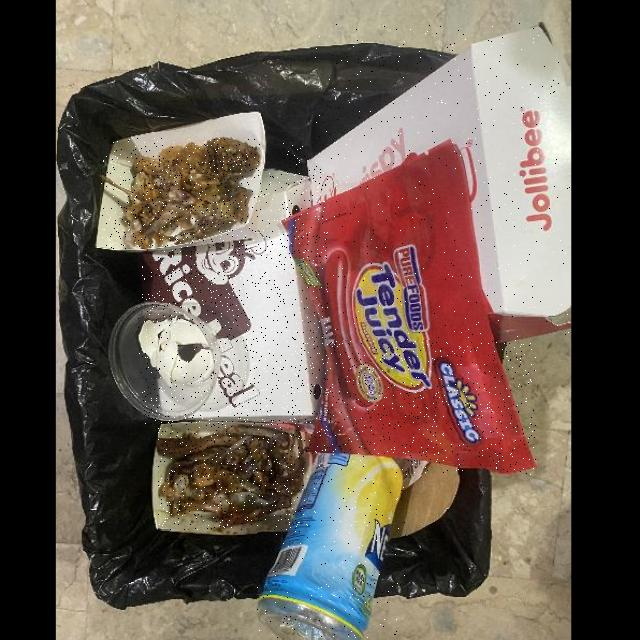biowaste: (101, 139, 260, 251), (159, 424, 305, 530), (139, 318, 213, 387)
paper: (310, 23, 571, 340), (142, 169, 328, 424)
plastic: (257, 454, 406, 639)
wrapper: (284, 141, 536, 475)
